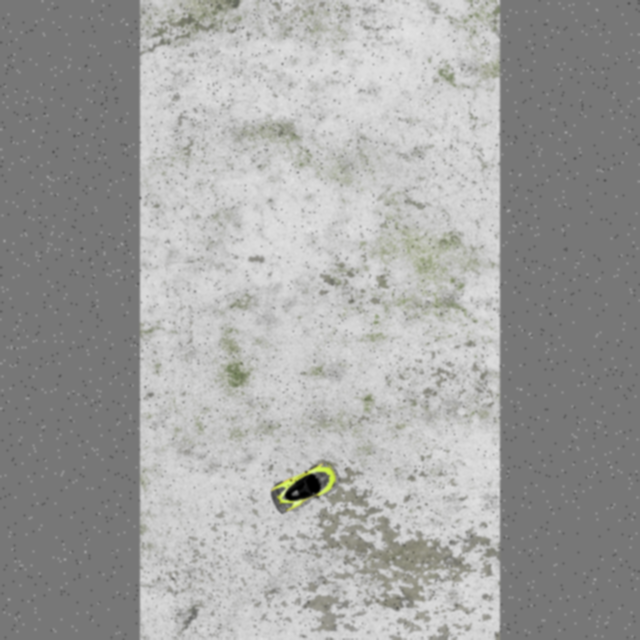car: (266, 458, 340, 518)
